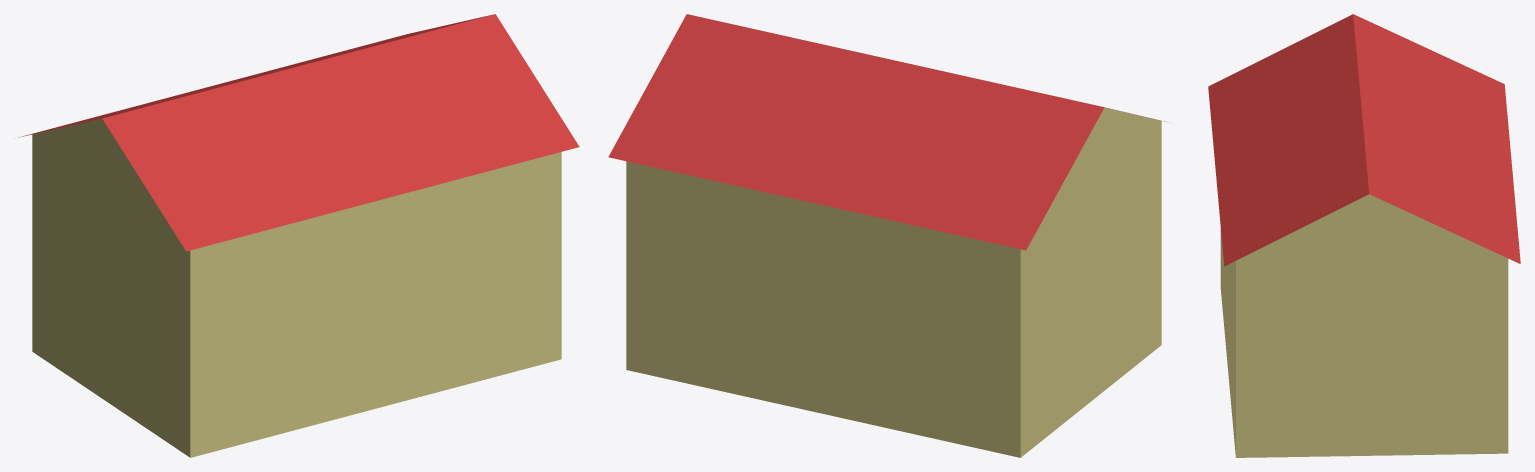
3 views of the same model, side by side, from view 1: azimuth 30°, elevation 25°; view 2: azimuth 150°, elevation 25°; view 3: azimuth 270°, elevation 25° (orthographic). The views are drawn at different scales.
Bounding box in the file's own units: 18.11 × 12.94 × 12.18.
